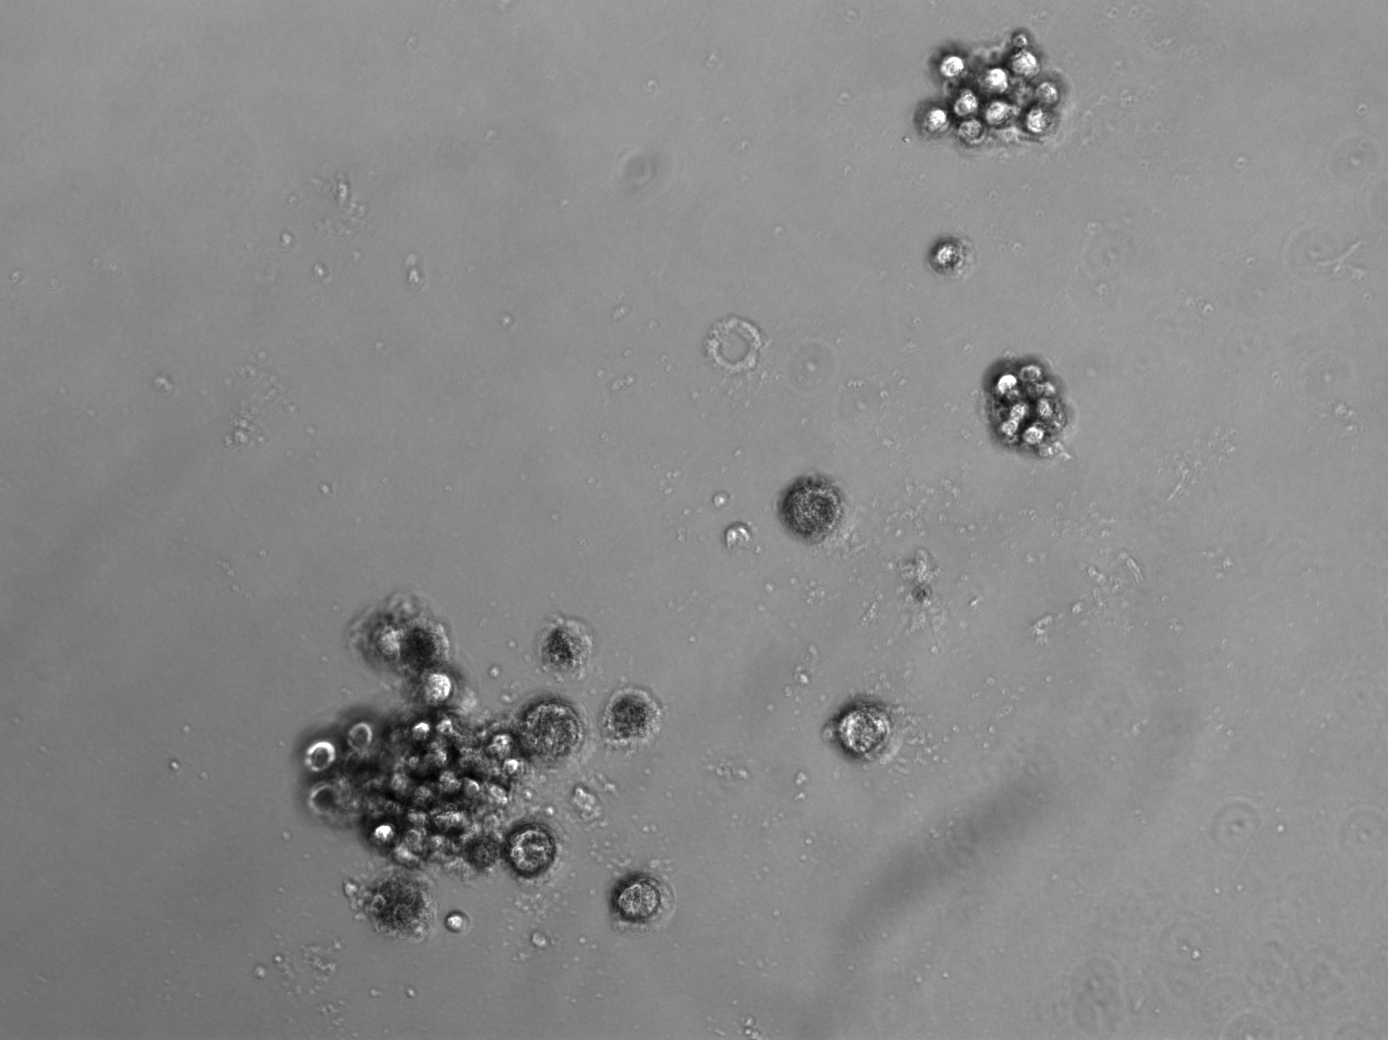ceil: (299, 592, 672, 929), (915, 24, 1068, 154), (983, 356, 1068, 464), (780, 477, 849, 543), (827, 704, 897, 759), (926, 235, 970, 277)
